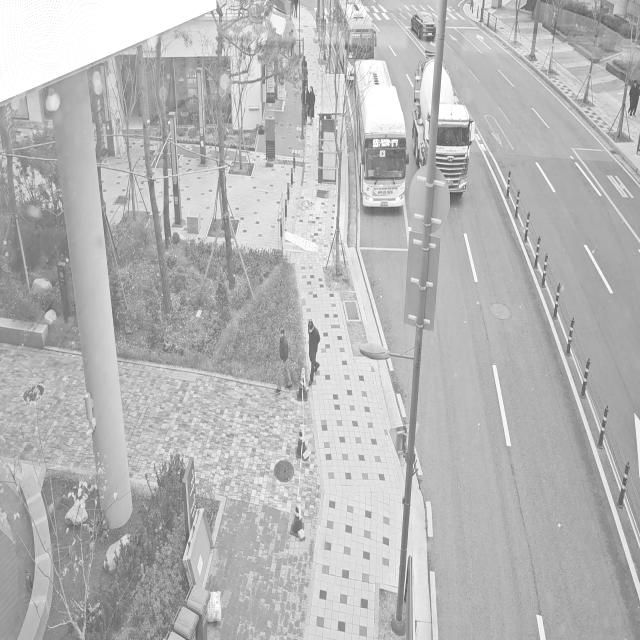Bus: (346, 52, 412, 222), (332, 0, 381, 87)
Car: (407, 6, 442, 43)
Truck: (404, 48, 478, 204)
